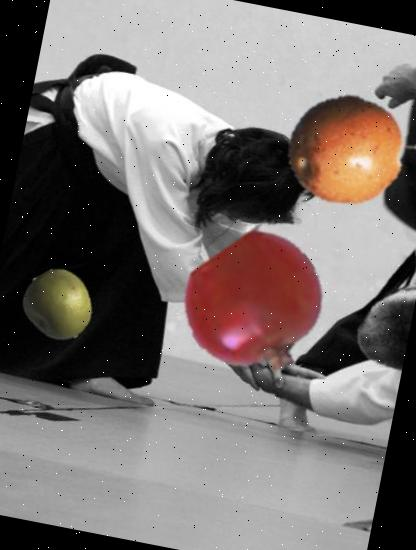Granadilla: (275, 70, 416, 229)
Pomelo: (16, 264, 100, 348)
Redcurrant: (175, 225, 339, 389)
